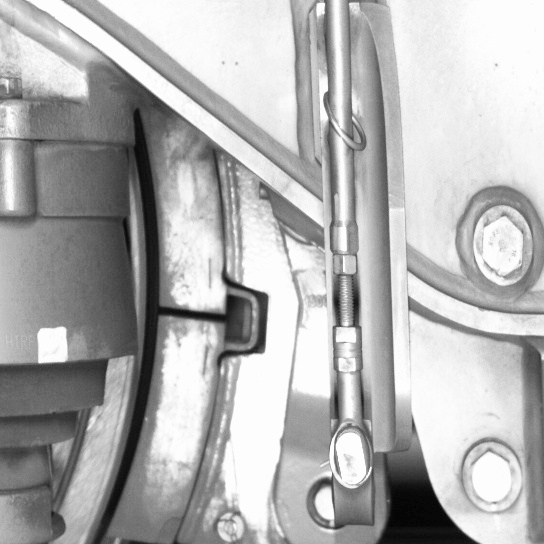KnifeSwitch: (80, 139, 227, 544)
